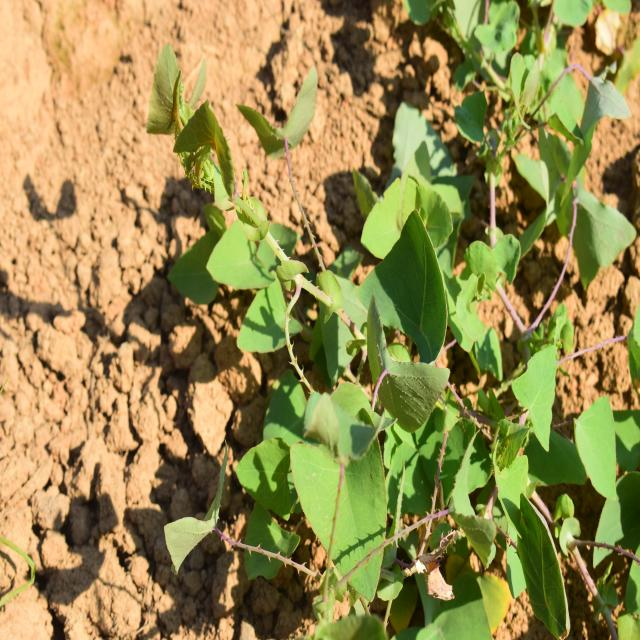Asiatic_Smartweed: (185, 128, 475, 428), (204, 382, 470, 595)
